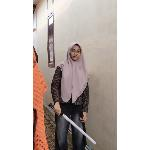Pedang: (49, 100, 100, 146)
